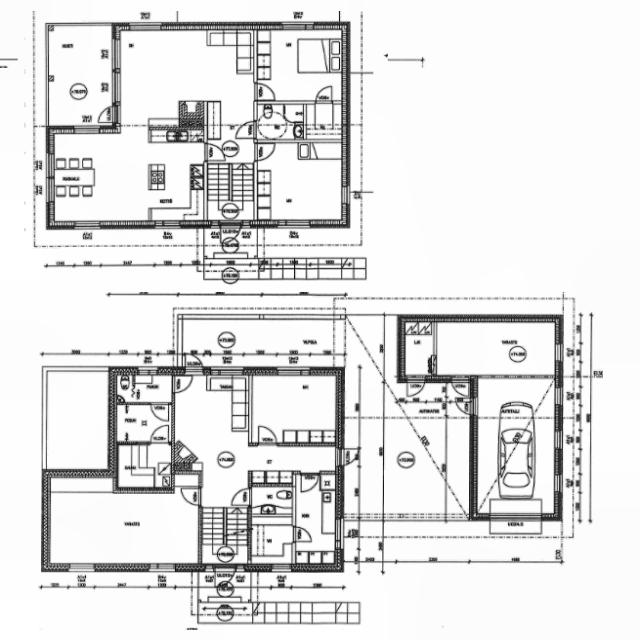Doors-dC8s: (220, 220, 242, 227), (112, 107, 121, 123), (449, 376, 472, 382), (338, 448, 344, 466), (470, 399, 477, 413), (409, 377, 425, 382), (218, 569, 236, 573), (204, 144, 208, 160), (293, 526, 296, 545), (316, 100, 334, 103), (173, 376, 176, 394), (252, 123, 255, 140), (301, 472, 322, 474), (249, 487, 251, 506), (254, 142, 256, 159), (260, 442, 276, 444), (199, 491, 201, 505), (152, 443, 171, 444), (151, 404, 170, 405), (255, 84, 255, 103)
Window: (492, 516, 542, 522), (135, 22, 163, 32), (278, 368, 310, 376), (212, 368, 242, 376), (66, 564, 95, 572), (73, 126, 101, 134), (148, 565, 176, 573), (341, 186, 351, 205), (47, 178, 55, 201), (70, 222, 100, 228), (279, 222, 308, 228), (186, 368, 205, 377), (335, 520, 342, 544), (556, 345, 565, 362), (280, 26, 315, 30), (47, 155, 54, 174), (156, 223, 180, 228), (555, 390, 563, 404), (139, 368, 159, 373), (274, 564, 290, 570), (556, 476, 561, 492), (556, 432, 561, 446), (236, 565, 244, 572), (205, 566, 211, 571)
